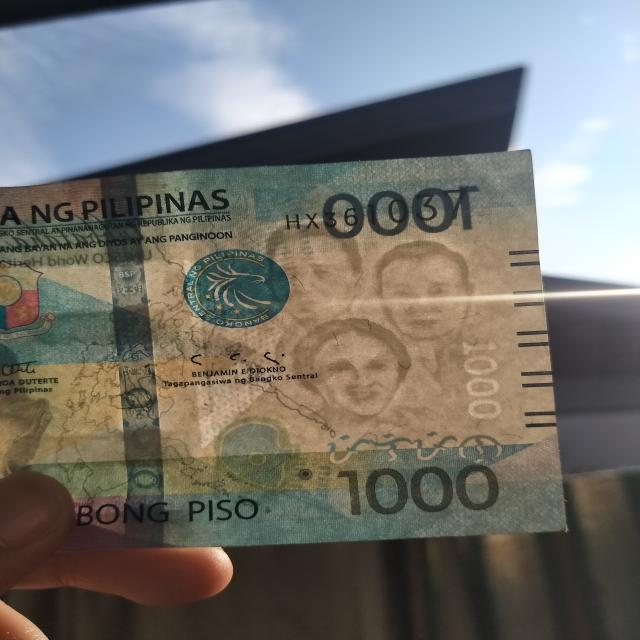security_thread: (97, 173, 166, 554)
see_through_mark: (322, 431, 509, 466)
value_watermark: (456, 325, 505, 425)
watermark: (263, 222, 477, 418)
